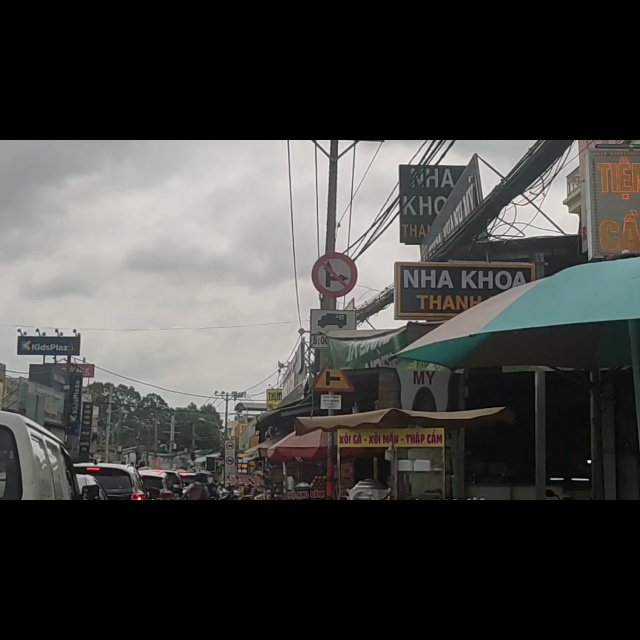bien_cam: (312, 204, 357, 275), (311, 300, 354, 345), (311, 411, 355, 442)
